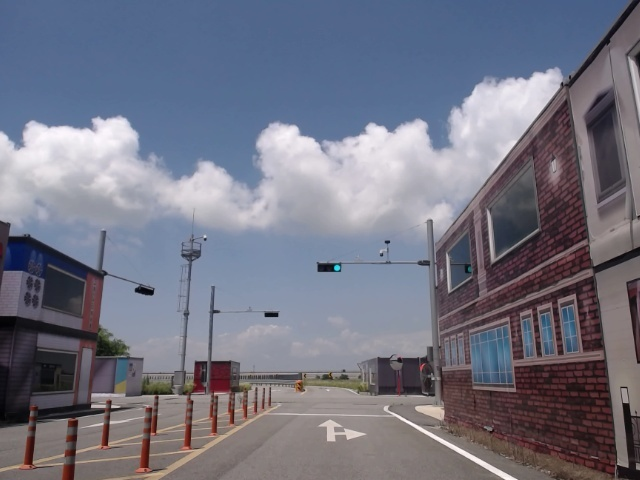green_3: (317, 264, 341, 273)
